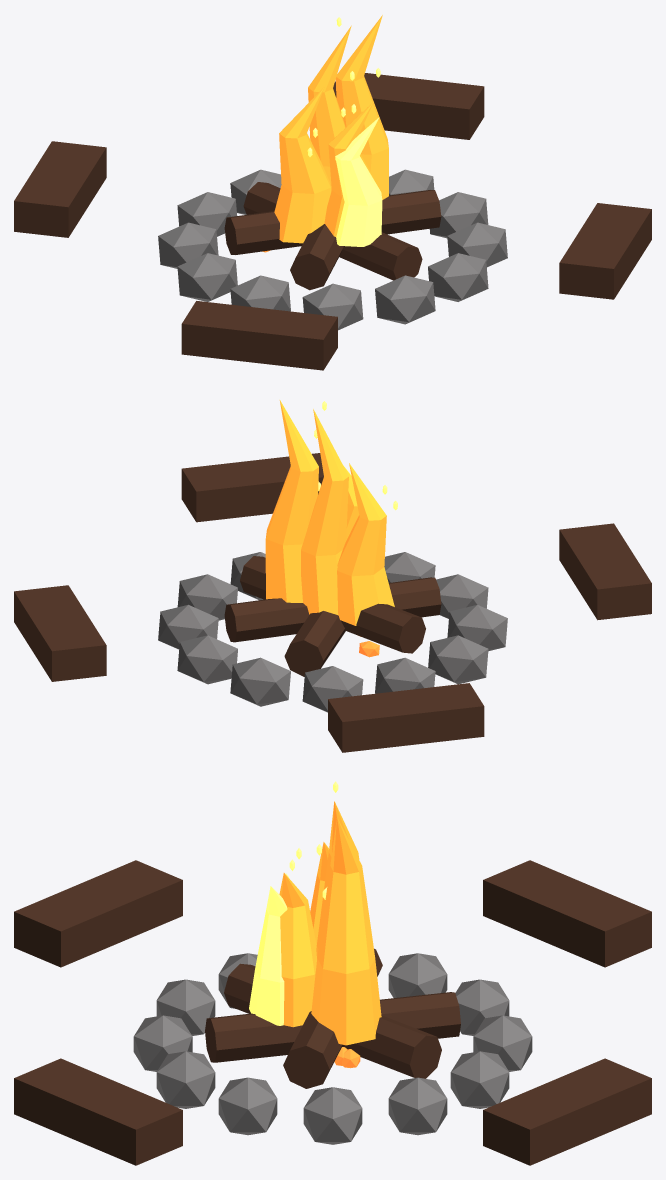
Rendered from campfire-prototype.glb.
The picture shows the model from 3 angles, top to bottom: view 1: azimuth 30°, elevation 25°; view 2: azimuth 150°, elevation 25°; view 3: azimuth 270°, elevation 25°; orthographic projection. The views are drawn at different scales.
Visible parts, largest first — view 1: seat_2, seat_1, seat_3, seat_0, flame_0, charred_log_2, bright_core, flame_1, charred_log_0, flame_3, ring_stone_09, ring_stone_06 (+11 smaller); view 2: seat_1, seat_2, seat_0, flame_1, flame_3, seat_3, flame_0, charred_log_1, charred_log_2, charred_log_0, ring_stone_03, ring_stone_06 (+9 smaller); view 3: seat_0, seat_1, seat_2, seat_3, flame_1, charred_log_0, charred_log_1, flame_2, bright_core, charred_log_2, ring_stone_01, ring_stone_11 (+11 smaller).
Boxes of the visible parts, x1,y1,x2,y2 form: seat_2: (181,301,337,370); seat_1: (14,141,106,237); seat_3: (559,203,651,299); seat_0: (333,73,484,139); flame_0: (274,86,330,243); charred_log_2: (224,190,441,254); bright_core: (335,117,382,246); flame_1: (335,15,388,199); charred_log_0: (243,182,422,280); flame_3: (308,25,351,192); ring_stone_09: (375,275,435,324); ring_stone_06: (177,253,237,301); seat_1: (328,683,484,752); seat_2: (559,523,651,620); seat_0: (14,585,106,681); flame_1: (265,400,318,602); flame_3: (301,409,348,614); seat_3: (181,453,323,522); flame_0: (337,463,394,625); charred_log_1: (224,577,441,642); charred_log_2: (240,556,425,653); charred_log_0: (284,611,345,676); ring_stone_03: (230,657,290,706); ring_stone_06: (428,635,488,684); seat_0: (483,1058,651,1165); seat_1: (483,860,651,967); seat_2: (14,860,182,967); seat_3: (14,1058,182,1165); flame_1: (311,817,381,1045); charred_log_0: (205,992,460,1062); charred_log_1: (224,963,441,1078); flame_2: (279,873,316,1027); bright_core: (249,886,287,1025); charred_log_2: (283,948,382,1088); ring_stone_01: (388,1077,447,1135); ring_stone_11: (218,1077,277,1135).
Size of the model in its own units: 2.4 by 1.23 by 2.4.
